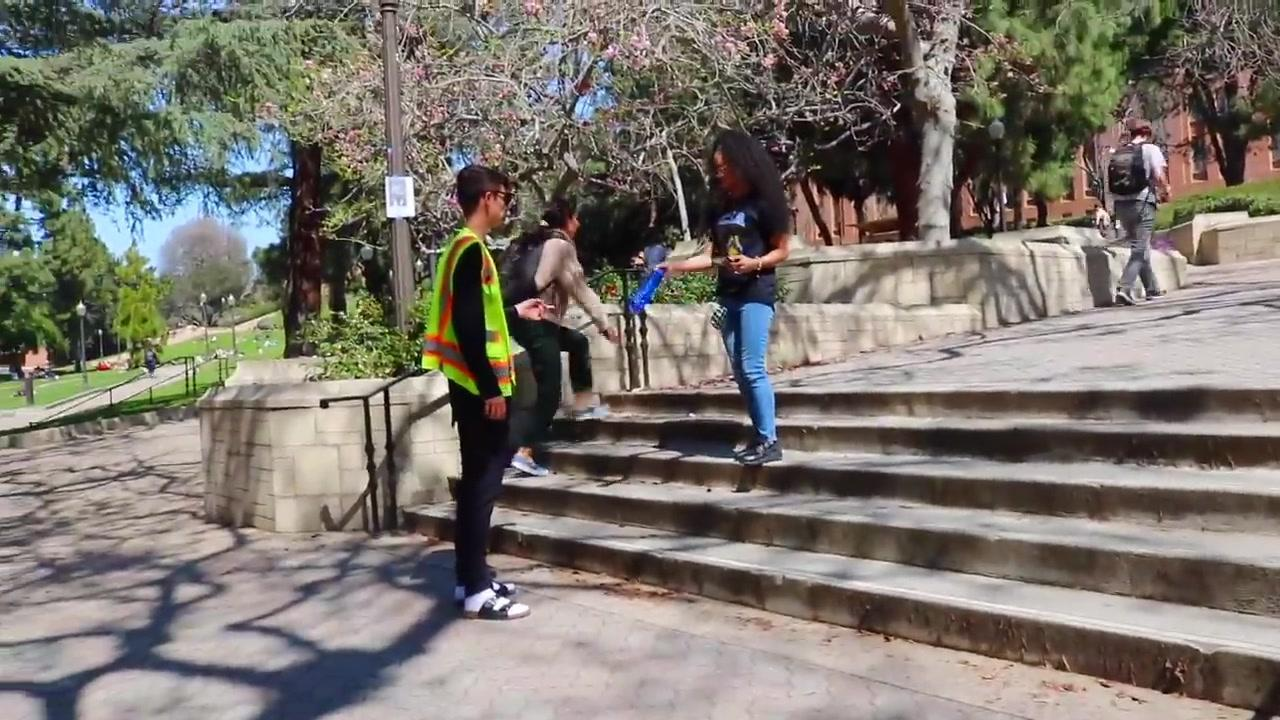vest: (418, 225, 515, 399)
